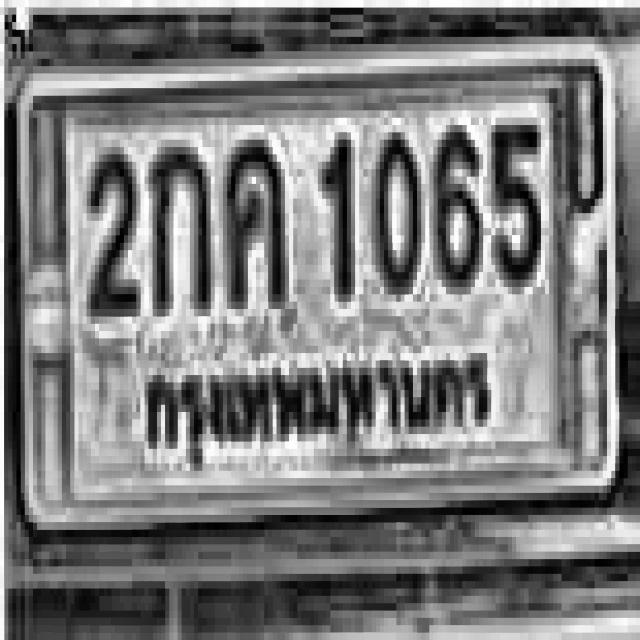license-plate: (18, 40, 622, 519)
